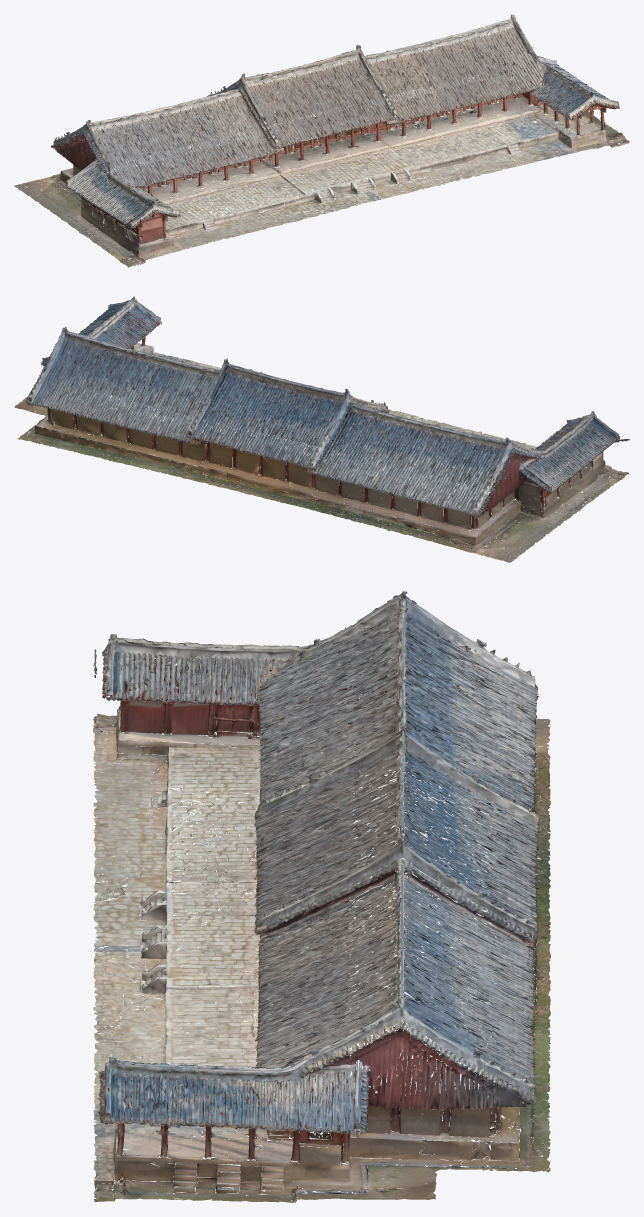
The model's file is yeongnyeong.glb.
The picture shows the model from 3 angles, top to bottom: view 1: azimuth 30°, elevation 25°; view 2: azimuth 150°, elevation 25°; view 3: azimuth 270°, elevation 25°; orthographic projection. The views are drawn at different scales.
Visible parts, largest first — view 1: Object_2, Object_4, Object_3, Object_5, Object_7, Object_6; view 2: Object_2, Object_6, Object_3, Object_4, Object_5, Object_7, Object_8; view 3: Object_2, Object_4, Object_3, Object_5, Object_6, Object_7, Object_8.
Part boxes in pixels (x1,y1,x2,y2): Object_2: (54, 16, 543, 225); Object_4: (14, 43, 629, 247); Object_3: (55, 19, 624, 265); Object_5: (16, 14, 629, 267); Object_7: (65, 31, 625, 252); Object_6: (65, 44, 619, 178); Object_2: (36, 332, 618, 536); Object_6: (86, 298, 504, 514); Object_3: (14, 296, 628, 550); Object_4: (27, 326, 604, 562); Object_5: (26, 308, 629, 561); Object_7: (18, 307, 576, 488); Object_8: (141, 343, 505, 527); Object_2: (102, 592, 538, 1113); Object_4: (93, 596, 550, 1201); Object_3: (93, 661, 550, 1202); Object_5: (93, 644, 550, 1201); Object_6: (98, 612, 538, 1166); Object_7: (93, 591, 550, 1202); Object_8: (101, 698, 550, 1153).
Bounding box in the file's own units: 7.19 × 1.28 × 2.83.
Materials: 1 (1 with a texture image).
